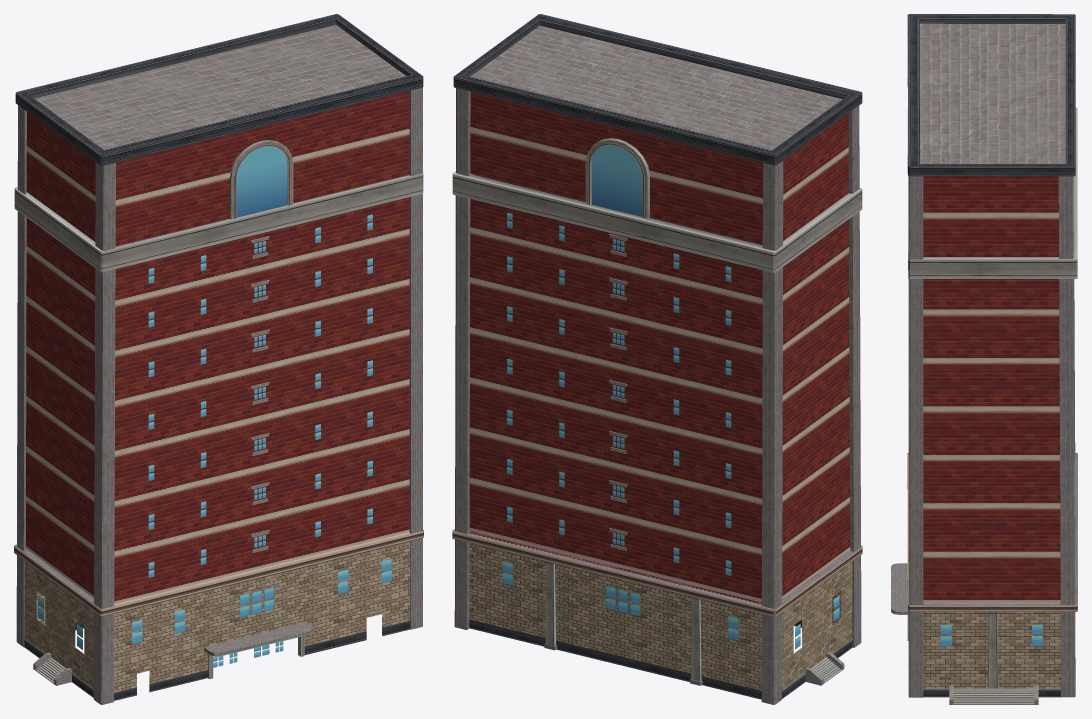
The model's file is HouseRG.fbx.
The picture shows the model from 3 angles, left to right: view 1: azimuth 30°, elevation 25°; view 2: azimuth 150°, elevation 25°; view 3: azimuth 270°, elevation 25°; orthographic projection. The views are drawn at different scales.
Visible parts, largest first — view 1: House_RG; view 2: House_RG; view 3: House_RG.
Boxes of the visible parts, x1,y1,x2,y2 form: House_RG: (14,14,423,704); House_RG: (452,14,862,704); House_RG: (891,14,1077,704).
Size of what is drawn, in the model's own units: 39.29 by 60.01 by 18.77.
